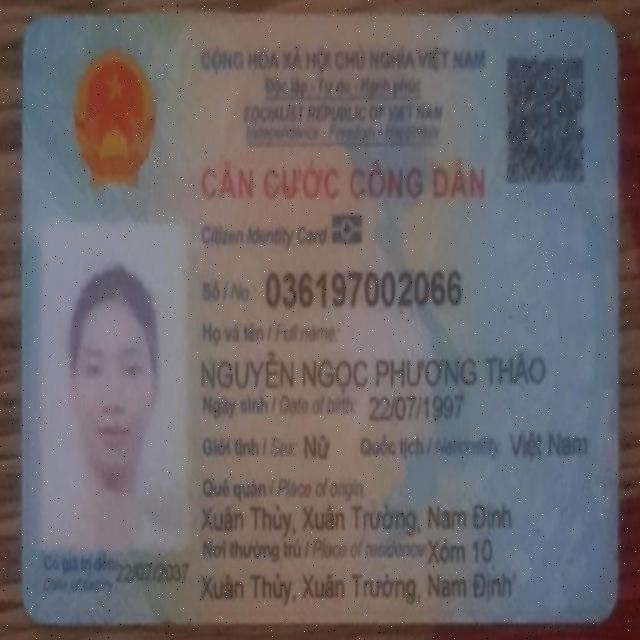current_place: (199, 568, 518, 608), (423, 530, 500, 570)
dob: (366, 392, 463, 424)
expire_date: (110, 555, 194, 590)
gender: (299, 430, 334, 467)
id: (262, 266, 463, 310)
name: (198, 347, 549, 396)
nationality: (506, 428, 592, 462)
origin_place: (199, 497, 516, 538)
